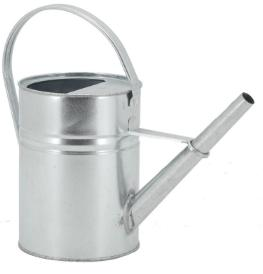ARROSOIR: (0, 0, 263, 270)
